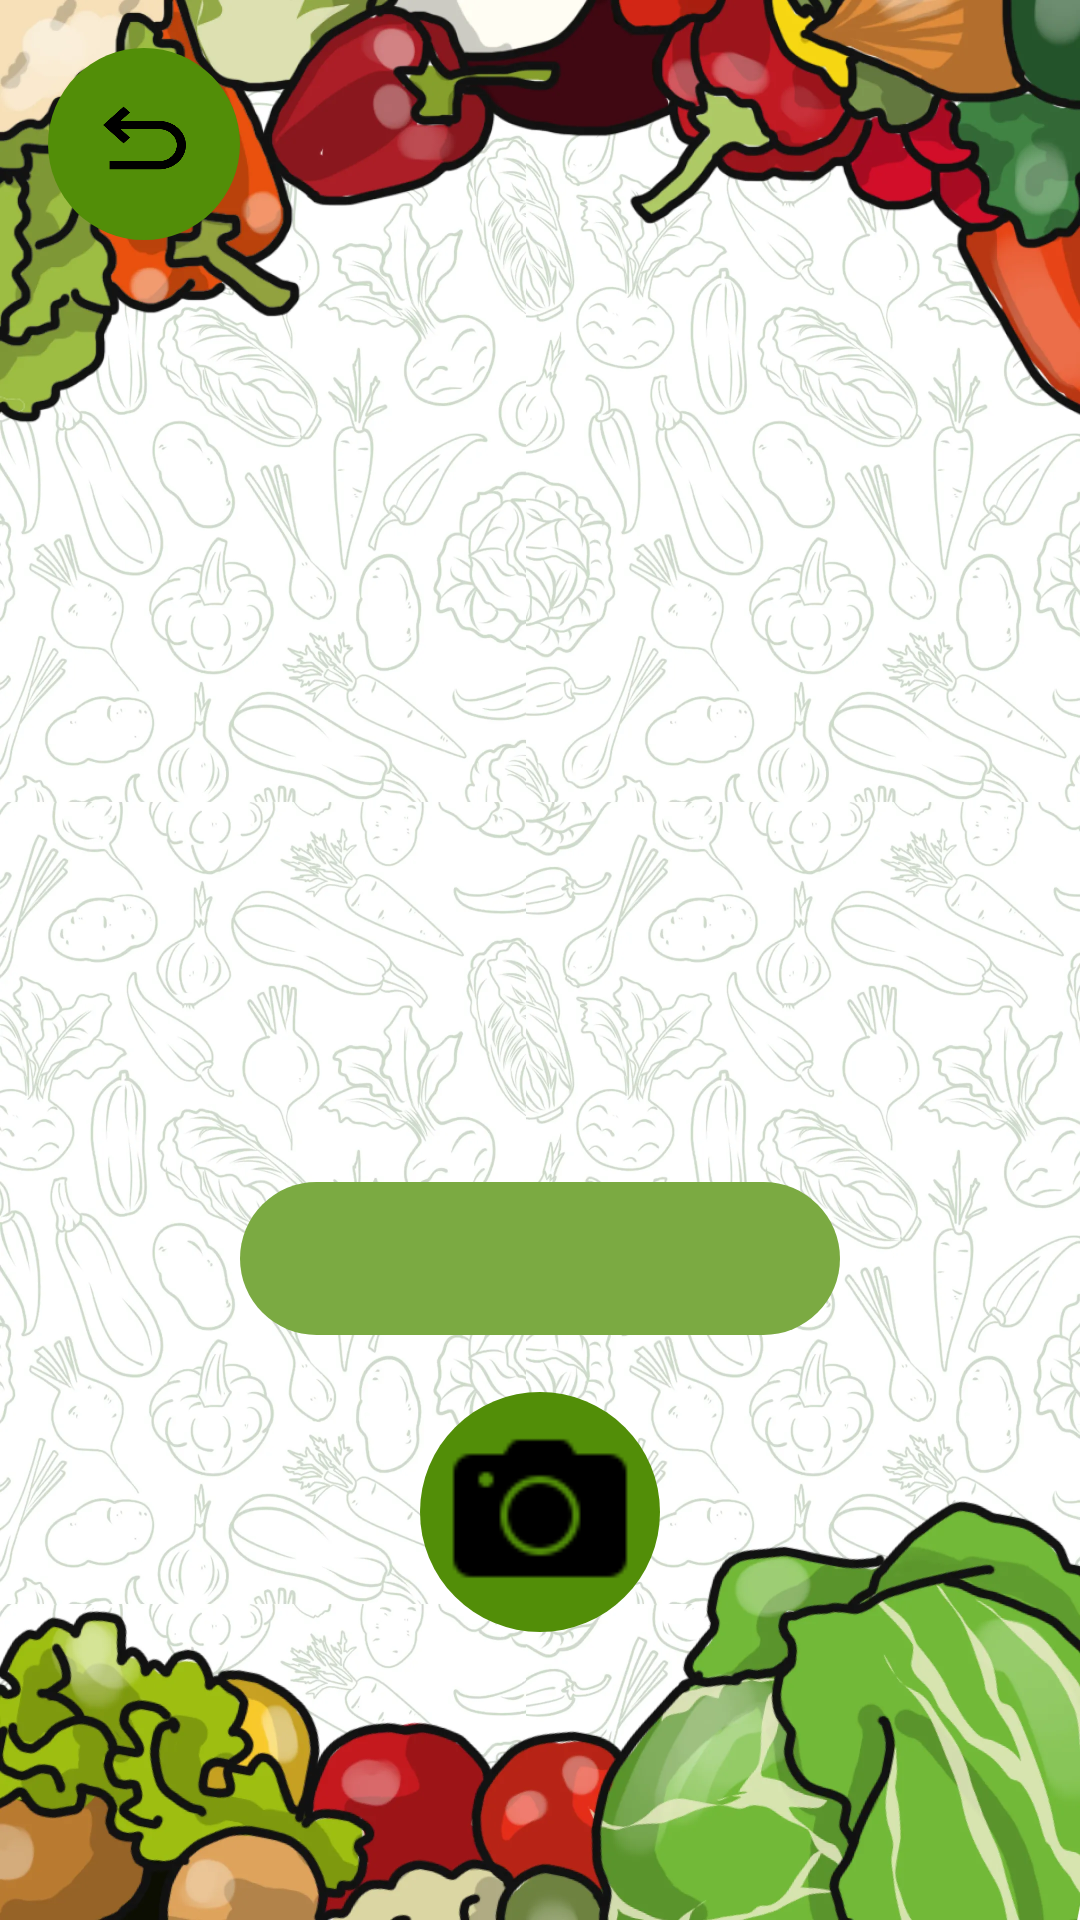

Screen size 1080w x 1920h. Icon name, then its box in pixels as (x1, y1, x2, y2):
turn left: (103, 107, 186, 170)
